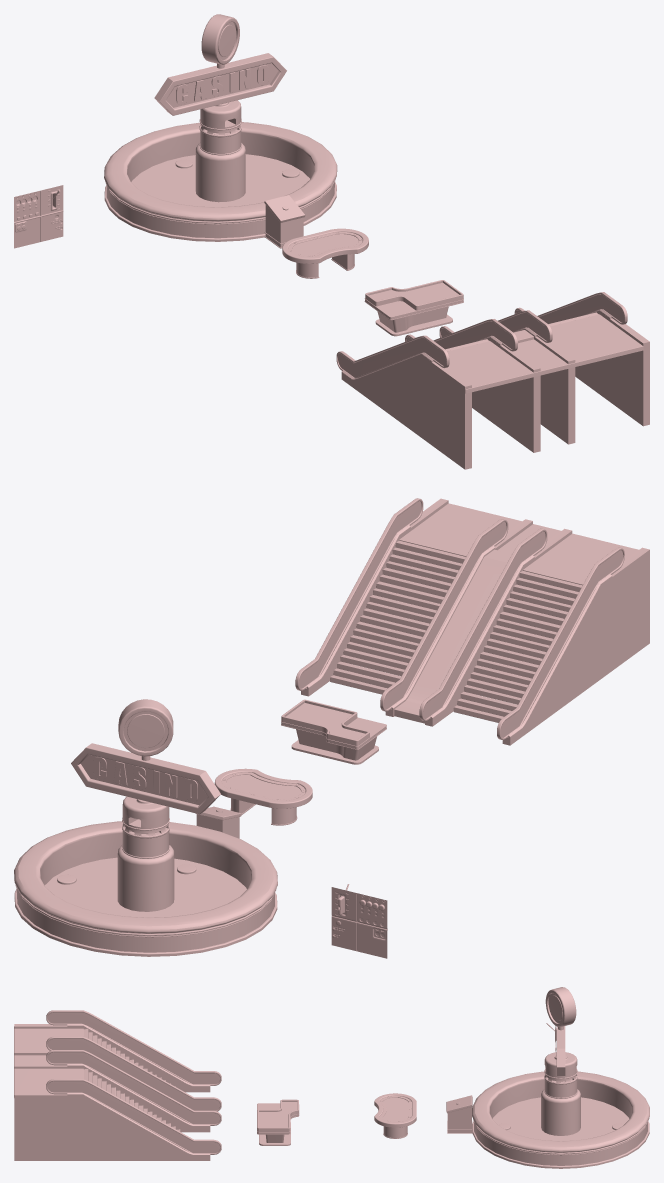
Rendered from TextureSet7_LargeProps_Tables_BreakerBox_Escalator_Fountain.fbx.
3 views of the same model, one above another, from view 1: azimuth 30°, elevation 25°; view 2: azimuth 150°, elevation 25°; view 3: azimuth 270°, elevation 25° (orthographic). The views are drawn at different scales.
Visible parts, largest first — view 1: Escalatorr, Fountain_Base, Fountain_Sign, RoulettTable_Combined, Poker_Table, BreakerBox, FountainPodium, Fountain_Top; view 2: Escalatorr, Fountain_Base, Fountain_Sign, RoulettTable_Combined, Poker_Table, BreakerBox, Fountain_Top, FountainPodium; view 3: Escalatorr, Fountain_Base, RoulettTable_Combined, Poker_Table, Fountain_Top, FountainPodium, Fountain_Sign.
Boxes of the visible parts, bbox=[...] form: Escalatorr: bbox=[336, 292, 649, 469]; Fountain_Base: bbox=[104, 63, 337, 241]; Fountain_Sign: bbox=[154, 53, 286, 115]; RoulettTable_Combined: bbox=[364, 280, 463, 336]; Poker_Table: bbox=[282, 228, 368, 278]; BreakerBox: bbox=[14, 185, 63, 248]; FountainPodium: bbox=[264, 195, 305, 248]; Fountain_Top: bbox=[201, 14, 239, 64]; Escalatorr: bbox=[295, 498, 649, 745]; Fountain_Base: bbox=[14, 756, 277, 956]; Fountain_Sign: bbox=[71, 743, 220, 814]; RoulettTable_Combined: bbox=[281, 699, 386, 764]; Poker_Table: bbox=[214, 768, 312, 825]; BreakerBox: bbox=[331, 887, 387, 958]; Fountain_Top: bbox=[118, 699, 173, 756]; FountainPodium: bbox=[195, 806, 241, 838]; Escalatorr: bbox=[14, 1010, 221, 1160]; Fountain_Base: bbox=[472, 1026, 649, 1168]; RoulettTable_Combined: bbox=[257, 1099, 299, 1145]; Poker_Table: bbox=[374, 1093, 416, 1138]; Fountain_Top: bbox=[545, 987, 576, 1026]; FountainPodium: bbox=[446, 1095, 472, 1133]; Fountain_Sign: bbox=[556, 1026, 565, 1075].
Size of the model in its own units: 12.71 by 6.89 by 28.25.
